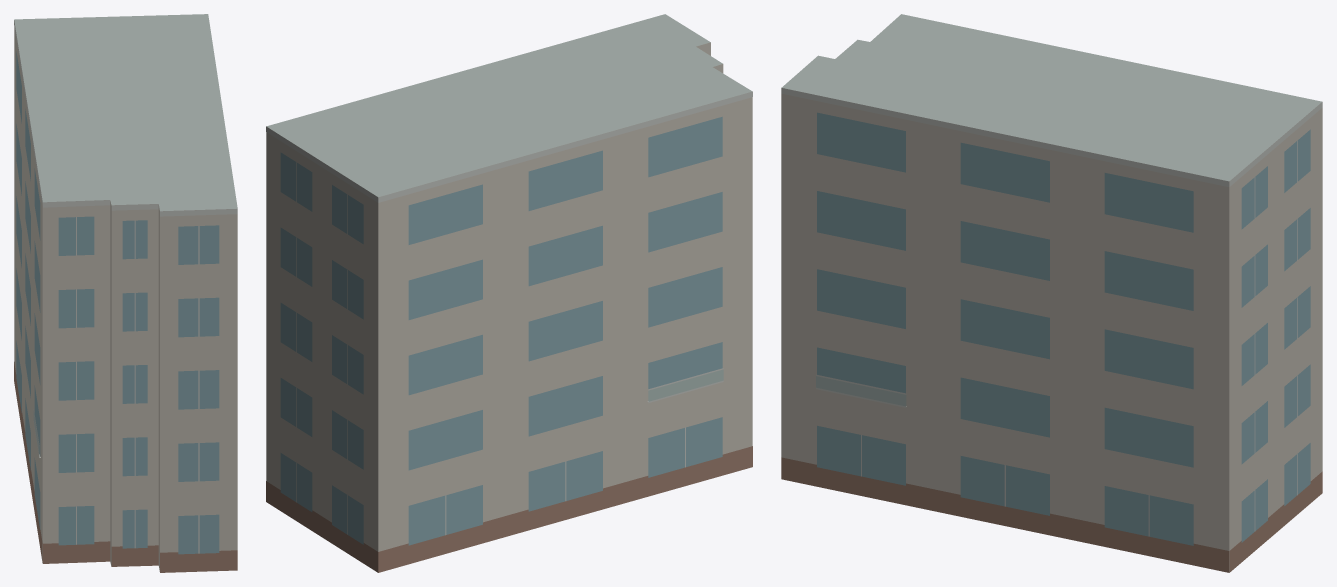
File: survey-upis-32534627.glb
3 renders of one model, left to right at view 1: azimuth 30°, elevation 25°; view 2: azimuth 150°, elevation 25°; view 3: azimuth 270°, elevation 25°, orthographic. The views are drawn at different scales.
Parts seen in each view (by area): view 1: survey-upis-32534627.tmp; view 2: survey-upis-32534627.tmp; view 3: survey-upis-32534627.tmp.
Part boxes in pixels (x1,y1,x2,y2): survey-upis-32534627.tmp: [14, 14, 237, 572]; survey-upis-32534627.tmp: [266, 14, 752, 572]; survey-upis-32534627.tmp: [781, 14, 1322, 572].
Bounding box in the file's own units: 15.05 × 16.4 × 20.55.
